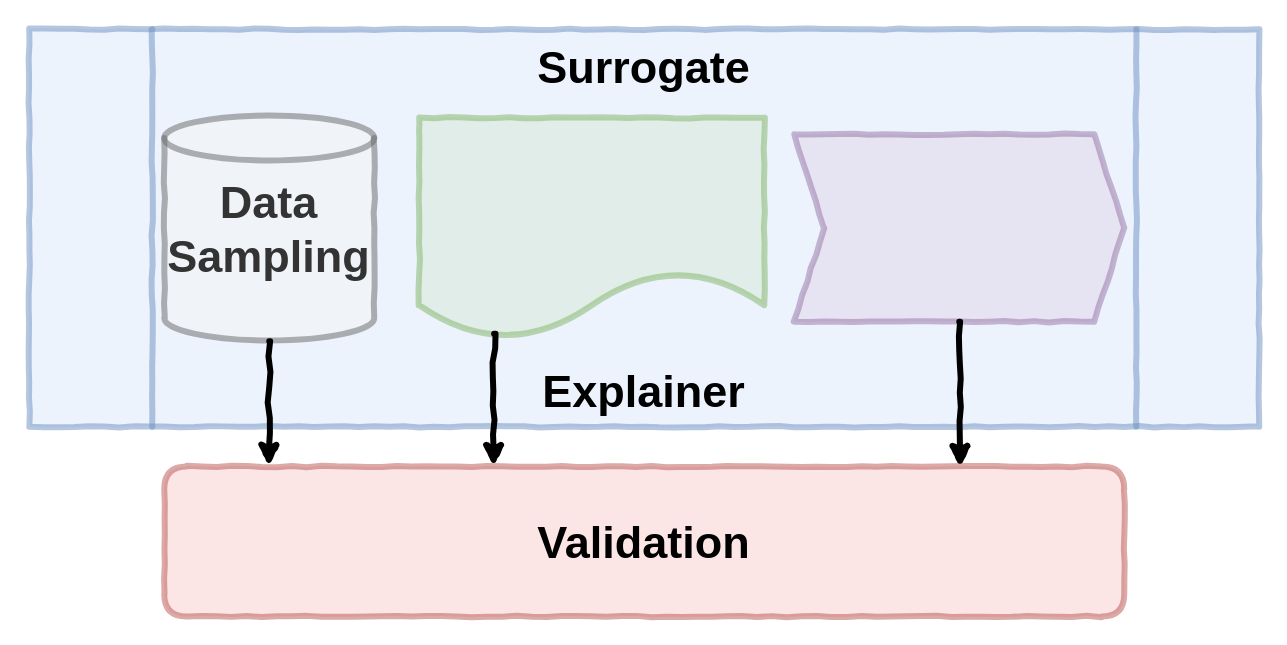
Image size: 1287x645. Some labels were removed from this diagram. The shapes that lost their labels are listed below. From the top down, each one's centre as x and y in pixels, then its label:
At (x=591, y=227): "Interpretable Representation".
At (x=958, y=227): "Explanation Generation".
